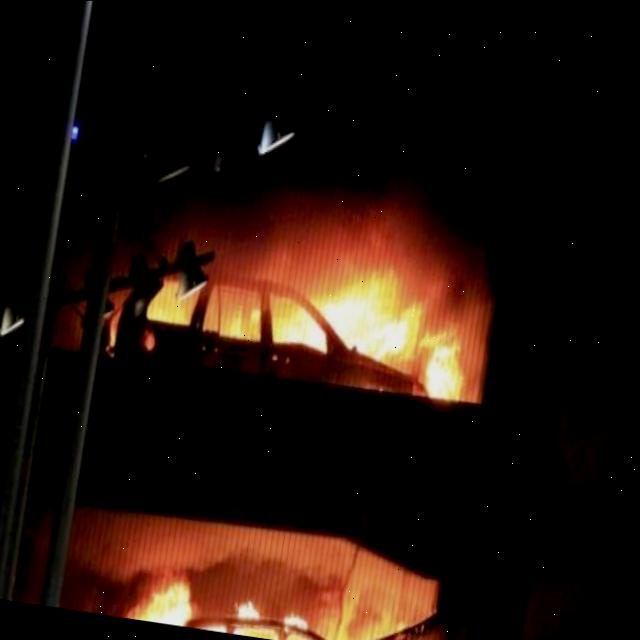fire: (204, 252, 479, 386), (143, 582, 414, 640)
